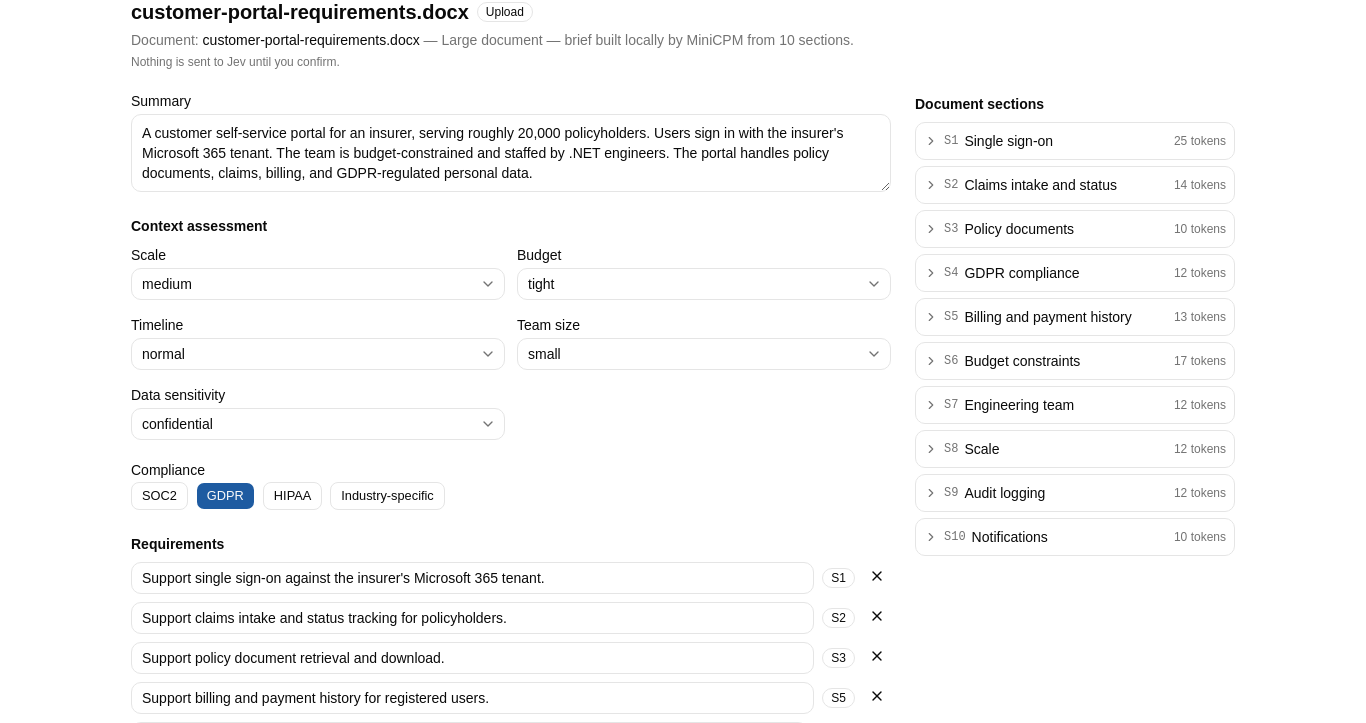
Scenario: Brief screen › disables confirm while the summary is empty
The width and height of the screenshot is (1366, 723).
Step 1. Clear the text box labelled "Summary" → x=511, y=153, box x1=131 y1=114 x2=891 y2=192
(page scrolled)
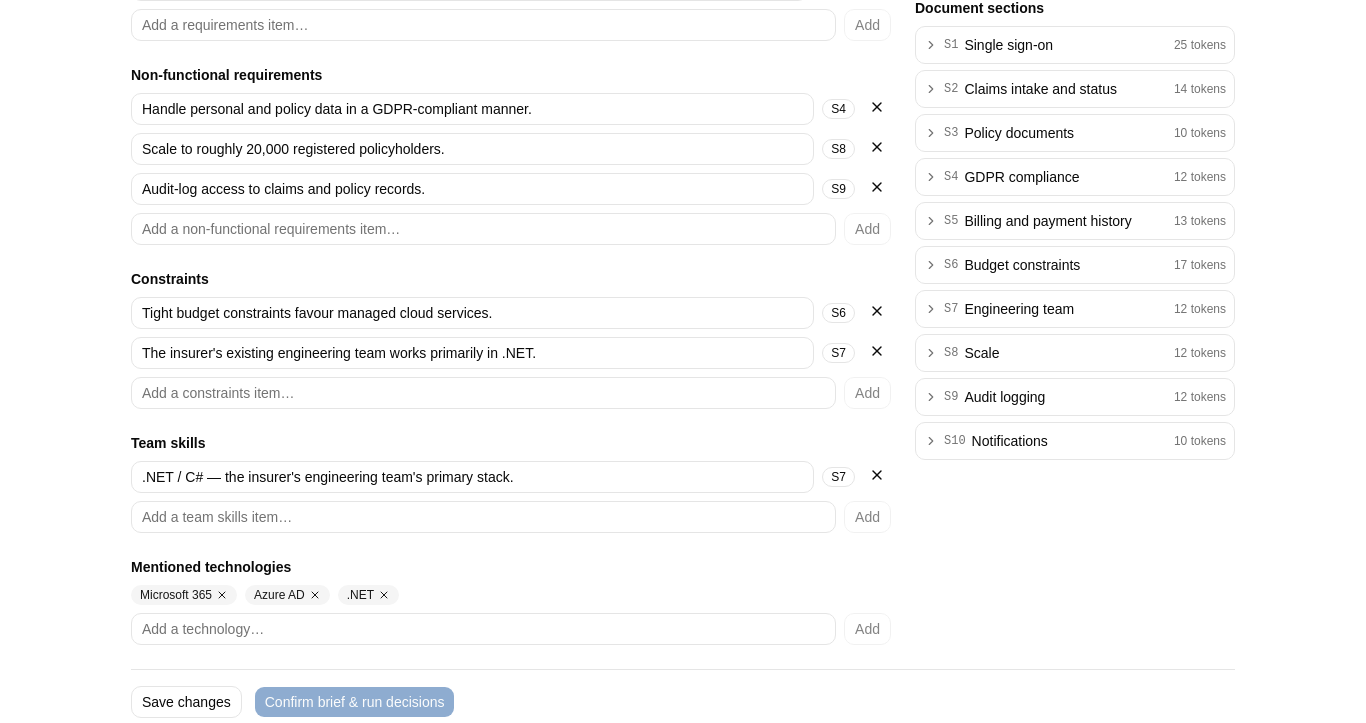
Expected: the button "Confirm brief & run decisions" is disabled, x1=254 y1=686 x2=456 y2=718
